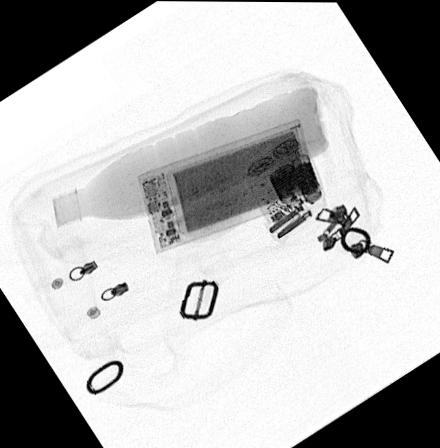Powerbank: (136, 116, 327, 252)
